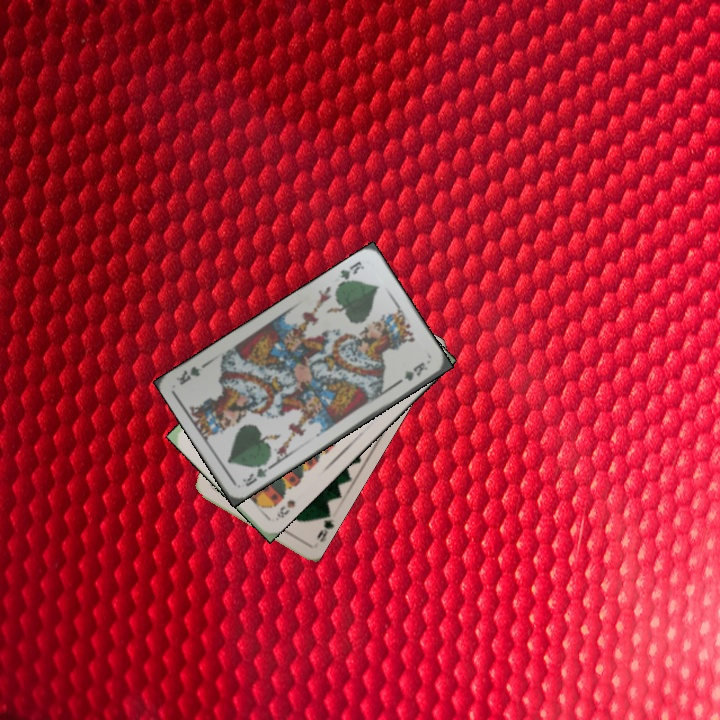G9: (313, 509, 335, 545)
GK: (238, 457, 274, 489), (334, 257, 367, 290)
S8: (271, 496, 298, 523)
